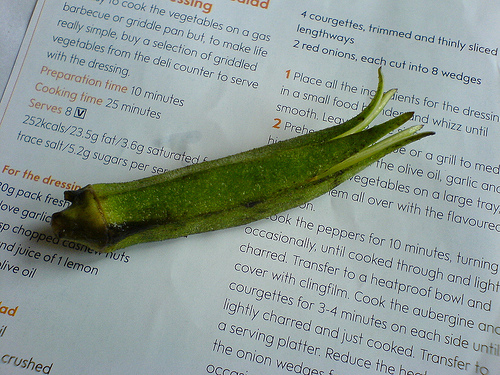okra: (51, 68, 434, 256)
